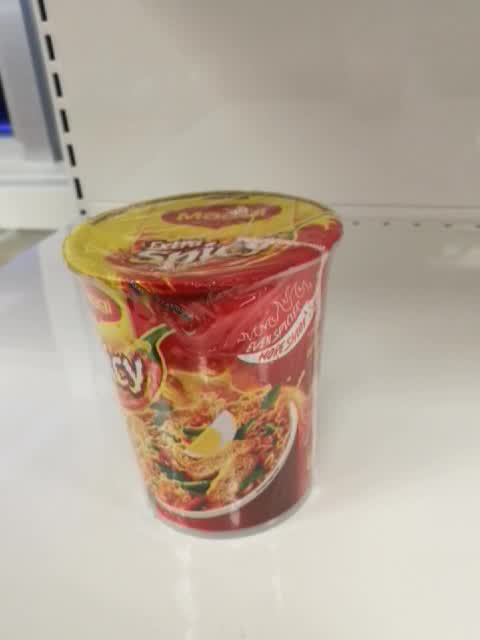maggi: (61, 189, 345, 541)
